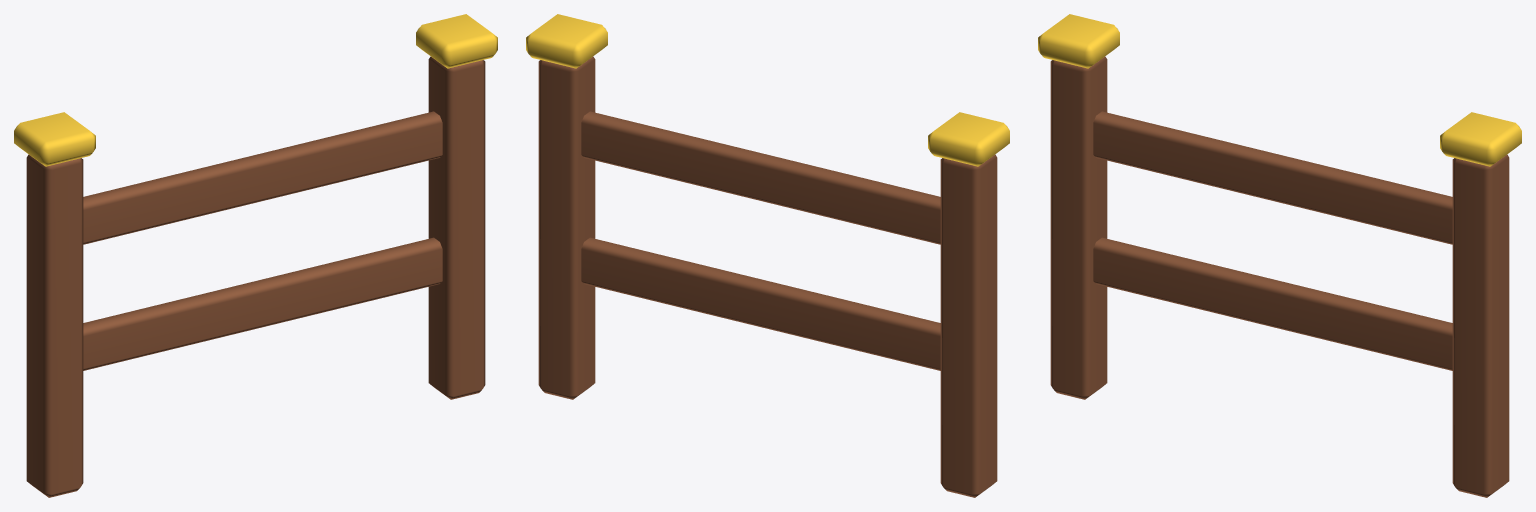
The model's file is fence.glb.
The picture shows the model from 3 angles, left to right: view 1: azimuth 30°, elevation 25°; view 2: azimuth 150°, elevation 25°; view 3: azimuth 330°, elevation 25°; orthographic projection.
Visible parts, largest first — view 1: Fence.001; view 2: Fence.001; view 3: Fence.001.
Boxes of the visible parts, x1,y1,x2,y2 form: Fence.001: (14, 14, 497, 497); Fence.001: (526, 14, 1009, 497); Fence.001: (1038, 14, 1521, 497).
Bounding box in the file's own units: 1.14 × 0.86 × 0.14.
